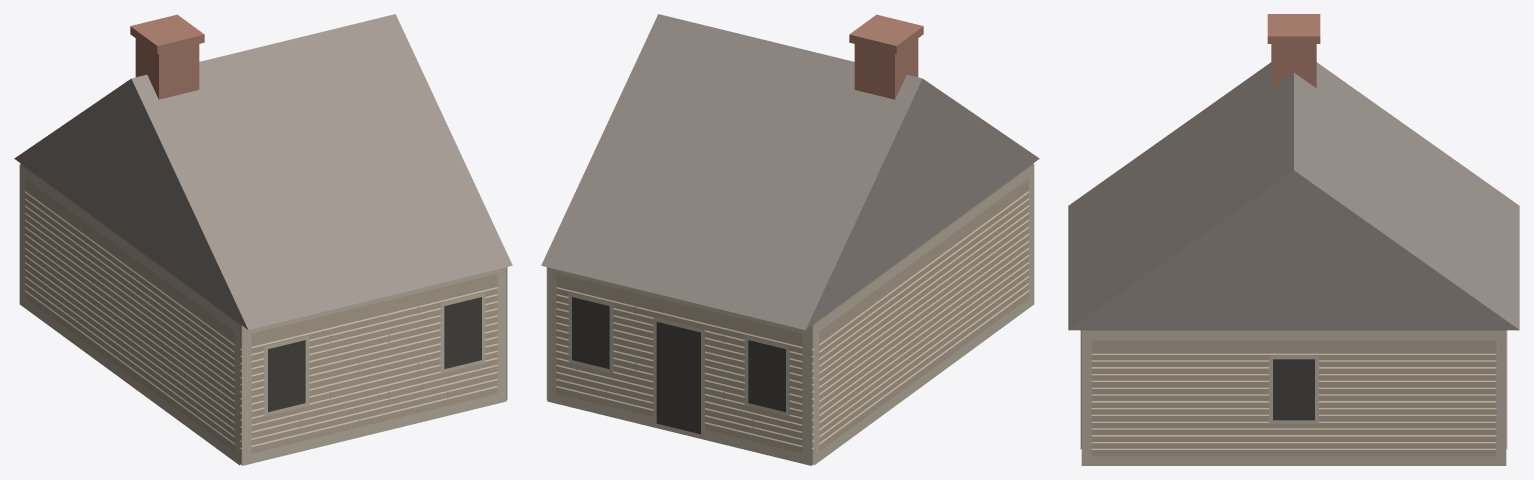
Rendered from wright_building_to_let_a__documented_1835.glb.
The picture shows the model from 3 angles, left to right: view 1: azimuth 30°, elevation 25°; view 2: azimuth 150°, elevation 25°; view 3: azimuth 270°, elevation 25°; orthographic projection. The views are drawn at different scales.
Visible parts, largest first — view 1: wright_building_to_let_a__documented_1835; view 2: wright_building_to_let_a__documented_1835; view 3: wright_building_to_let_a__documented_1835.
Part boxes in pixels (box(x1,y1,x2,y2)): wright_building_to_let_a__documented_1835: box(14, 14, 512, 465); wright_building_to_let_a__documented_1835: box(541, 14, 1039, 465); wright_building_to_let_a__documented_1835: box(1068, 14, 1519, 465).
Bounding box in the file's own units: 5.57 × 6.85 × 8.43.
